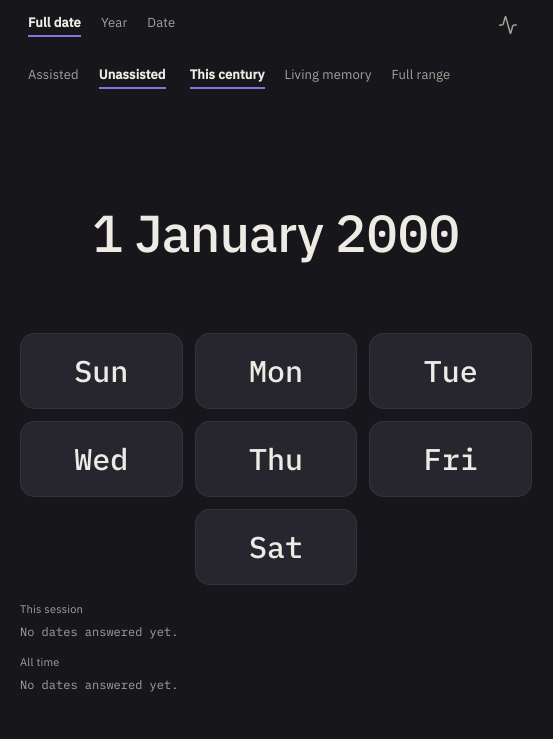
Test case: Weekday trainer › holds an error on screen with the full working until the user continues
Click the button "Sun".
click(101, 371)  # box [20,333,183,409]
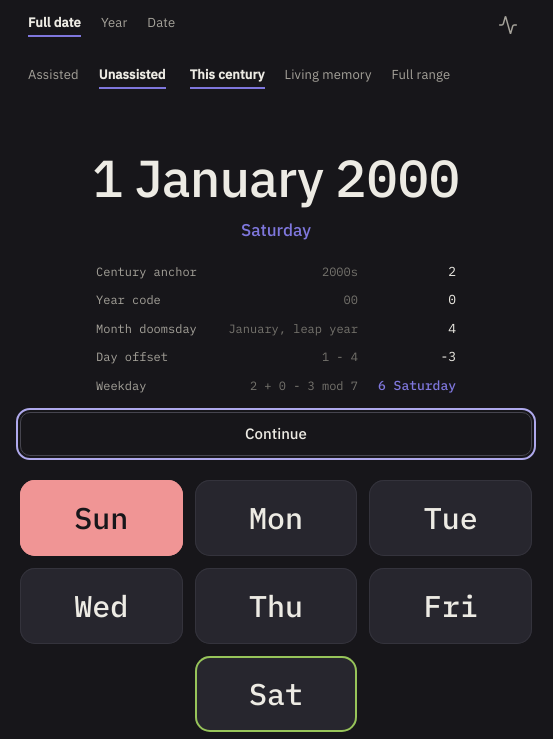
Result: the text "Century anchor" is shown at [96,264,197,279]
Result: the text "2000s" is shown at [322,264,358,279]
Result: the text "Month doomsday" is shown at [96,321,197,336]
Click the button "Continue".
click(276, 434)  # box [20,412,532,456]
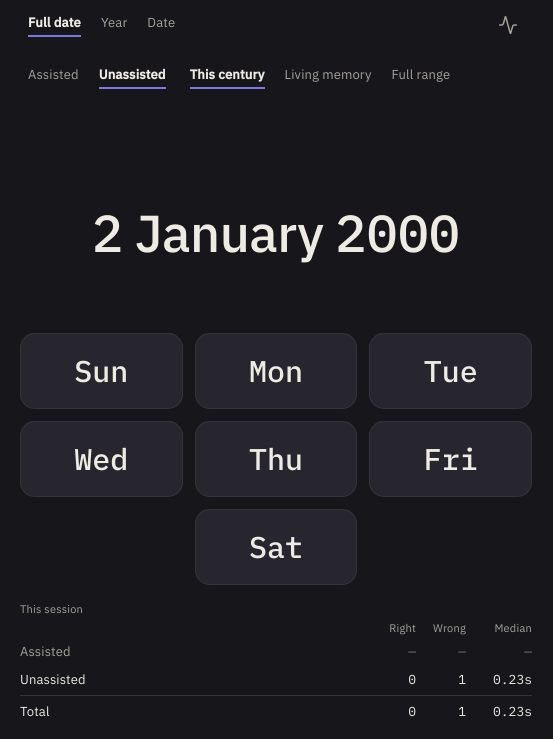
Result: the button "Continue" is gone
